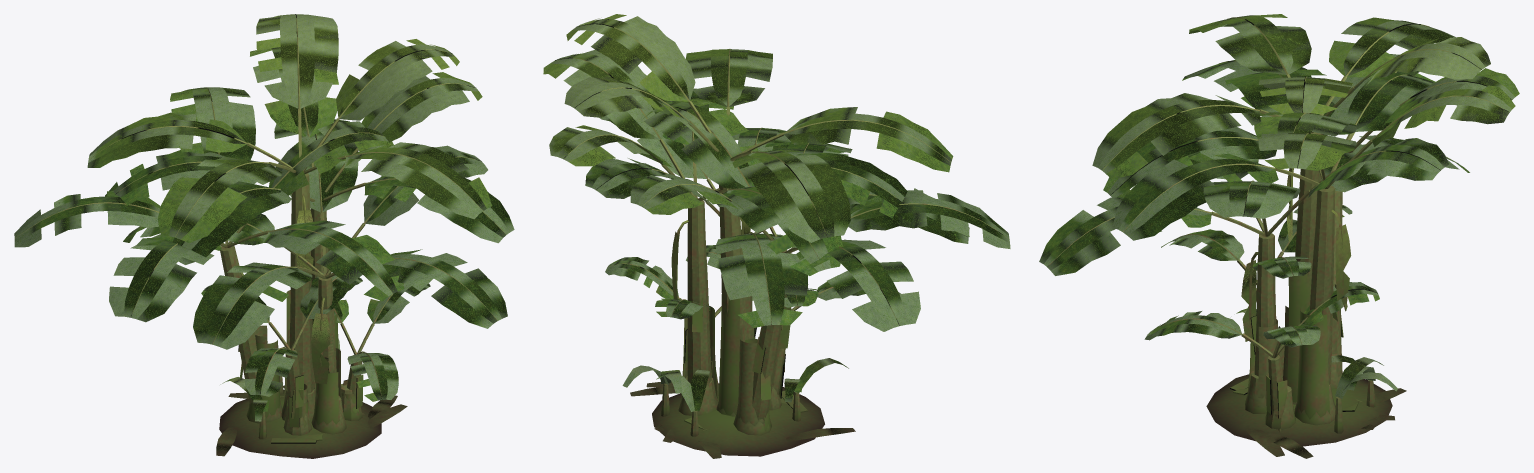
Rendered from BananaPaintV2.fbx.
3 views of the same model, side by side, from view 1: azimuth 30°, elevation 25°; view 2: azimuth 150°, elevation 25°; view 3: azimuth 270°, elevation 25° (orthographic). The views are drawn at different scales.
Parts seen in each view (by area): view 1: BananaClump, BananaClump_Base, BananaClump_B; view 2: BananaClump, BananaClump_Base, BananaClump_B; view 3: BananaClump, BananaClump_B, BananaClump_Base.
Boxes of the visible parts, <box> form: BananaClump: <box>87,14,507,434</box>; BananaClump_Base: <box>14,87,430,458</box>; BananaClump_B: <box>105,47,514,435</box>; BananaClump: <box>564,14,969,416</box>; BananaClump_Base: <box>605,98,1010,458</box>; BananaClump_B: <box>543,49,907,415</box>; BananaClump: <box>1039,14,1490,413</box>; BananaClump_B: <box>1112,69,1515,425</box>; BananaClump_Base: <box>1103,54,1519,458</box>.
Bounding box in the file's own units: 460 × 382 × 419.
Materials: 1 (1 with a texture image).
